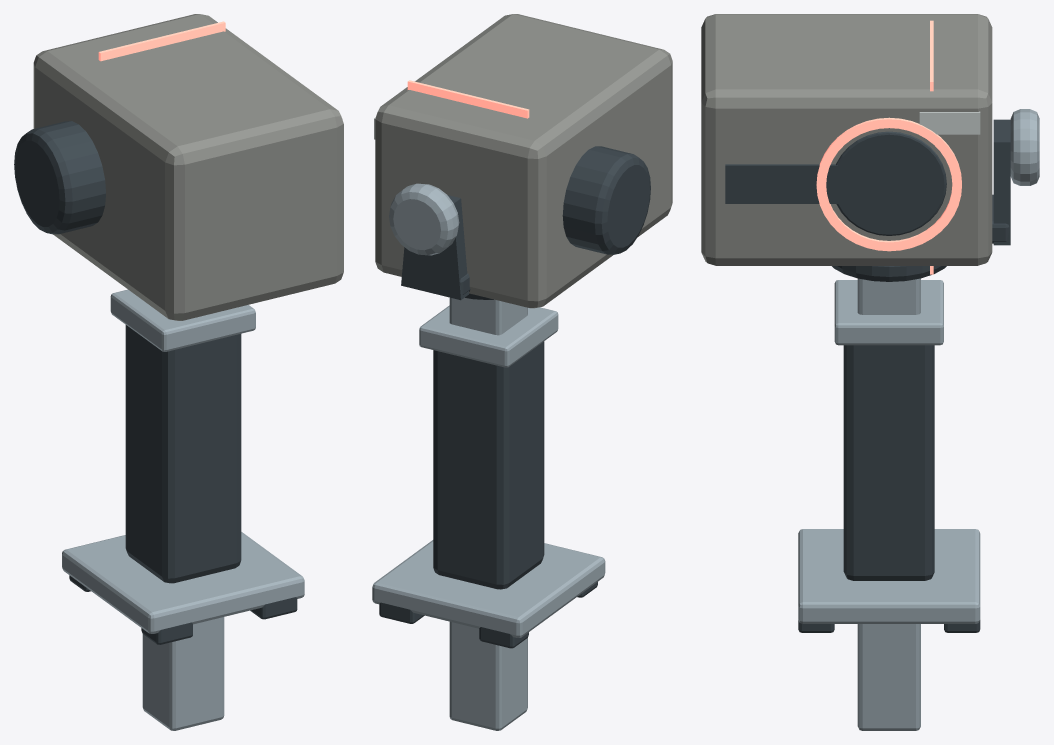
File: tech-core-ch4v2.glb
3 renders of one model, left to right at view 1: azimuth 30°, elevation 25°; view 2: azimuth 150°, elevation 25°; view 3: azimuth 270°, elevation 25°, orthographic. The views are drawn at different scales.
Parts seen in each view (by area): view 1: CoreHead, CoreCarriage_GraphiteArmor, CoreCarriage_BrushedTitanium, CoreRoll_GraphiteArmor, InnerColumn, CoreRoll_TeamCoreLamp; view 2: CoreHead, CoreCarriage_GraphiteArmor, CoreCarriage_BrushedTitanium, InnerColumn, CoreRoll_GraphiteArmor, CoreYaw_BrushedTitanium, CoreYaw_GraphiteArmor, CoreRoll_TeamCoreLamp; view 3: CoreHead, CoreCarriage_GraphiteArmor, CoreCarriage_BrushedTitanium, CoreRoll_GraphiteArmor, InnerColumn, CoreRoll_TeamCoreLamp, CoreYaw_GraphiteArmor, CoreYaw_BrushedTitanium, YawBearing, HeadLabel.
Boxes of the visible parts, x1,y1,x2,y2 form: CoreHead: (33,14,343,320); CoreCarriage_GraphiteArmor: (69,325,297,644); CoreCarriage_BrushedTitanium: (62,289,304,633); CoreRoll_GraphiteArmor: (14,121,105,234); InnerColumn: (142,617,224,730); CoreRoll_TeamCoreLamp: (98,21,225,61); CoreHead: (375,14,672,308); CoreCarriage_GraphiteArmor: (379,341,597,648); CoreCarriage_BrushedTitanium: (372,305,605,637); InnerColumn: (449,297,527,730); CoreRoll_GraphiteArmor: (562,146,650,254); CoreYaw_BrushedTitanium: (389,183,459,255); CoreYaw_GraphiteArmor: (401,195,470,300); CoreRoll_TeamCoreLamp: (407,80,529,118); CoreHead: (701,14,992,265); CoreCarriage_GraphiteArmor: (798,345,980,632); CoreCarriage_BrushedTitanium: (798,280,980,623); CoreRoll_GraphiteArmor: (725,131,946,235); InnerColumn: (857,278,920,730); CoreRoll_TeamCoreLamp: (816,20,961,274); CoreYaw_GraphiteArmor: (992,119,1010,245); CoreYaw_BrushedTitanium: (1010,109,1039,185); YawBearing: (832,266,946,281); HeadLabel: (919,111,980,134).
Bounding box in the file's own units: 0.215 × 0.6075 × 0.279.
